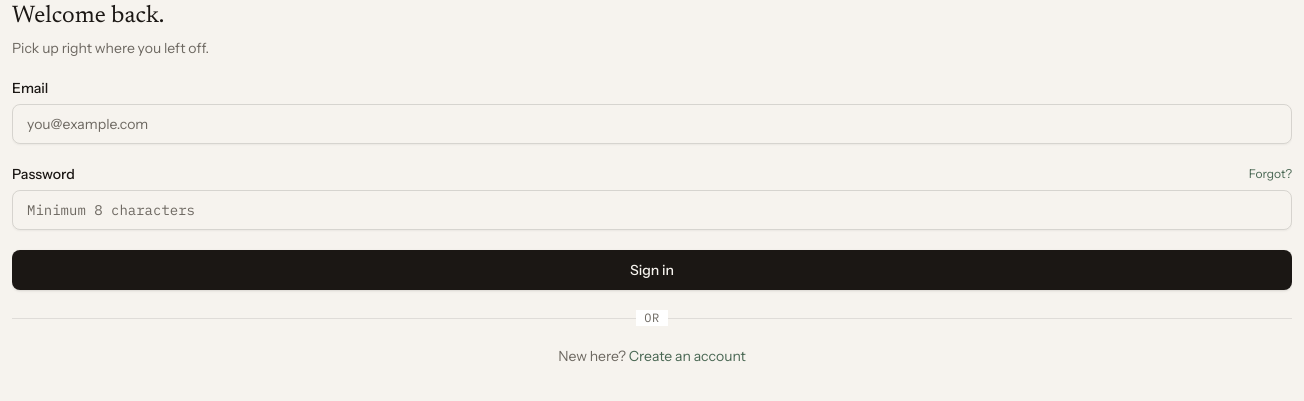
LoginForm › server-side error › displays a field error from the server
Type "user@example.com" into the field labelled "Email" at (652, 124), box left=12, top=104, right=1292, bottom=144
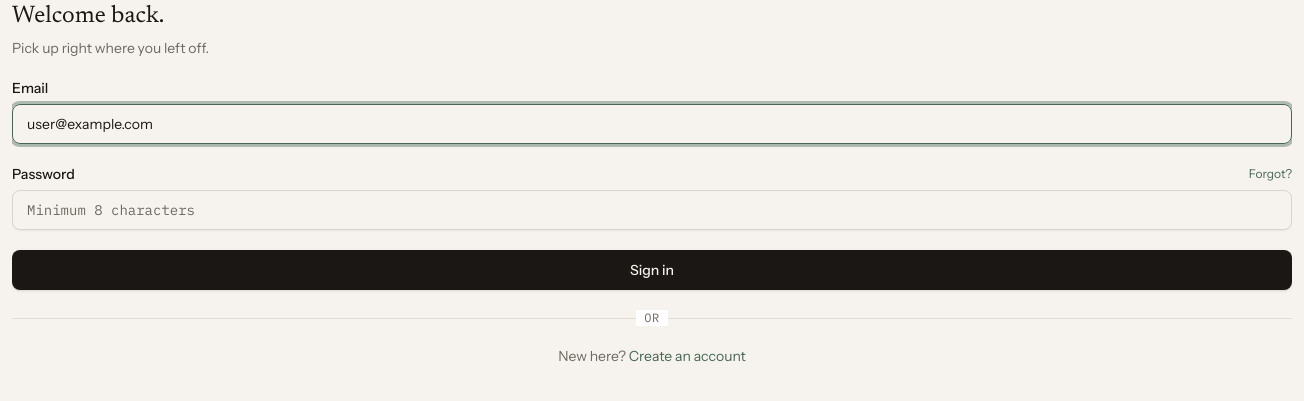
Type "password123" into the password field labelled "Password" at (652, 210), box left=12, top=190, right=1292, bottom=230
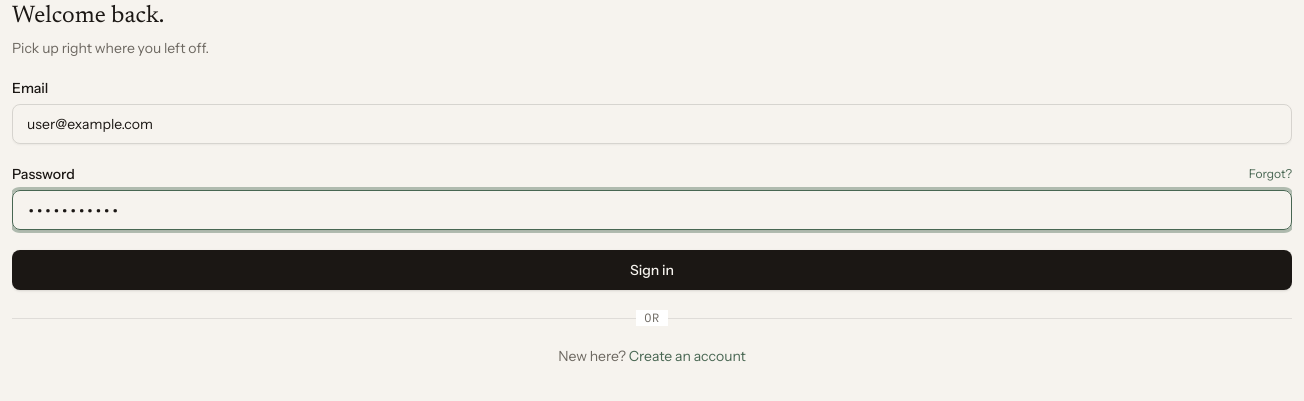
Click the button "Sign in" at (652, 270), box left=12, top=250, right=1292, bottom=290
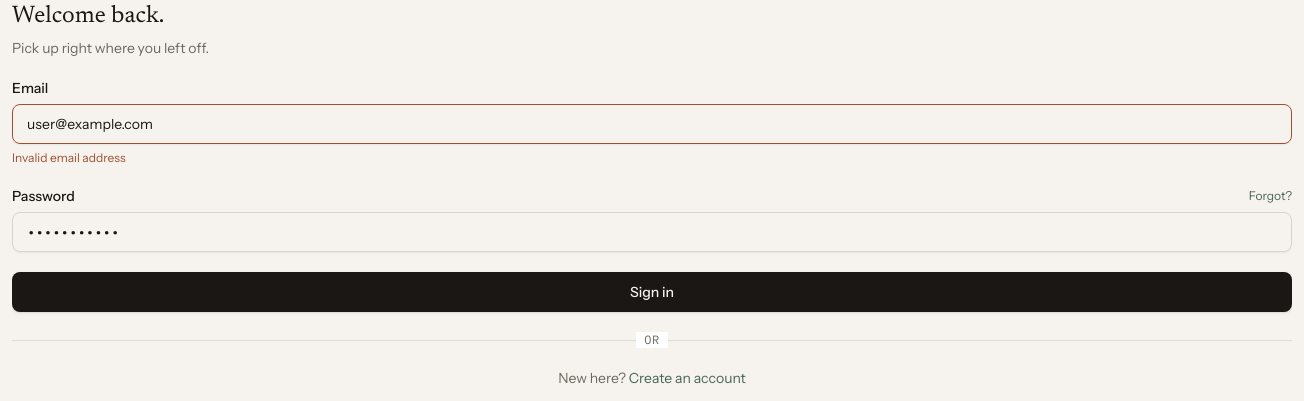
Expected: the text "Invalid email address" is shown, left=12, top=150, right=126, bottom=165
